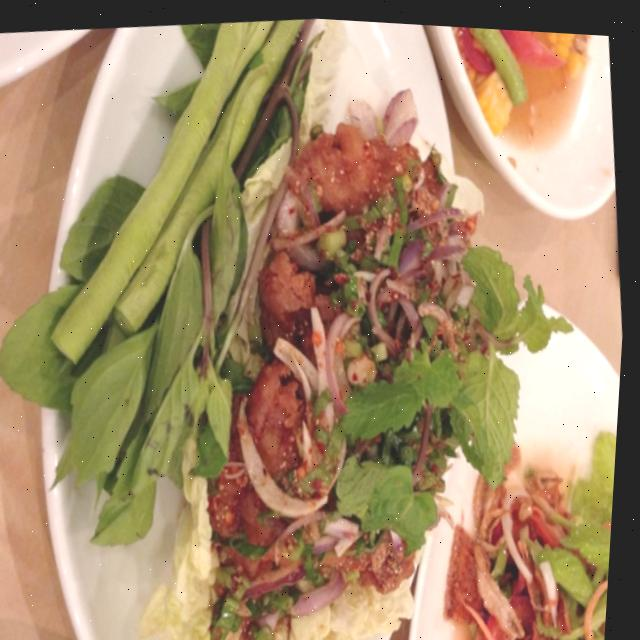鸡肉料理 含炸鸡: (0, 2, 621, 640)
